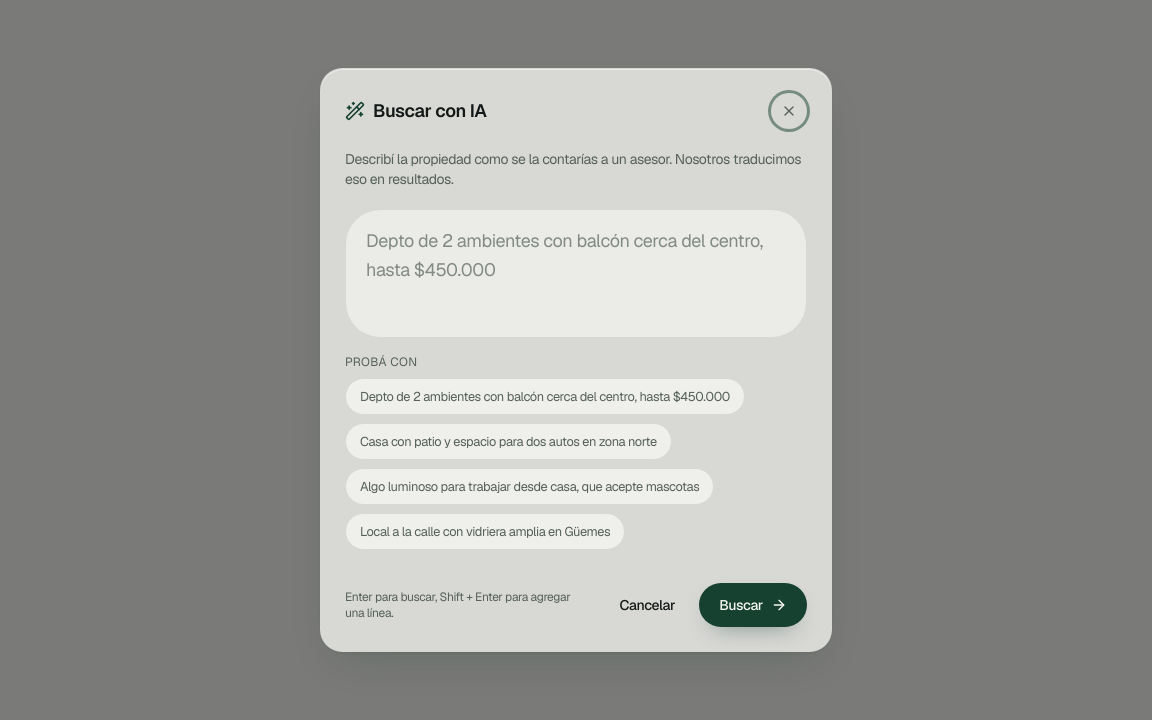
Test: AiSearchDialog › renders example chips and fills the textarea on click
Expected: the text "Casa con patio y espacio para dos autos en zona norte" is shown, [360,432,657,451]
What coordinates should you click on to do the following:
click the button "Casa con patio y espacio para dos autos en zona norte"
I would click on:
 (508, 441)
Its box is [345,423,672,460].
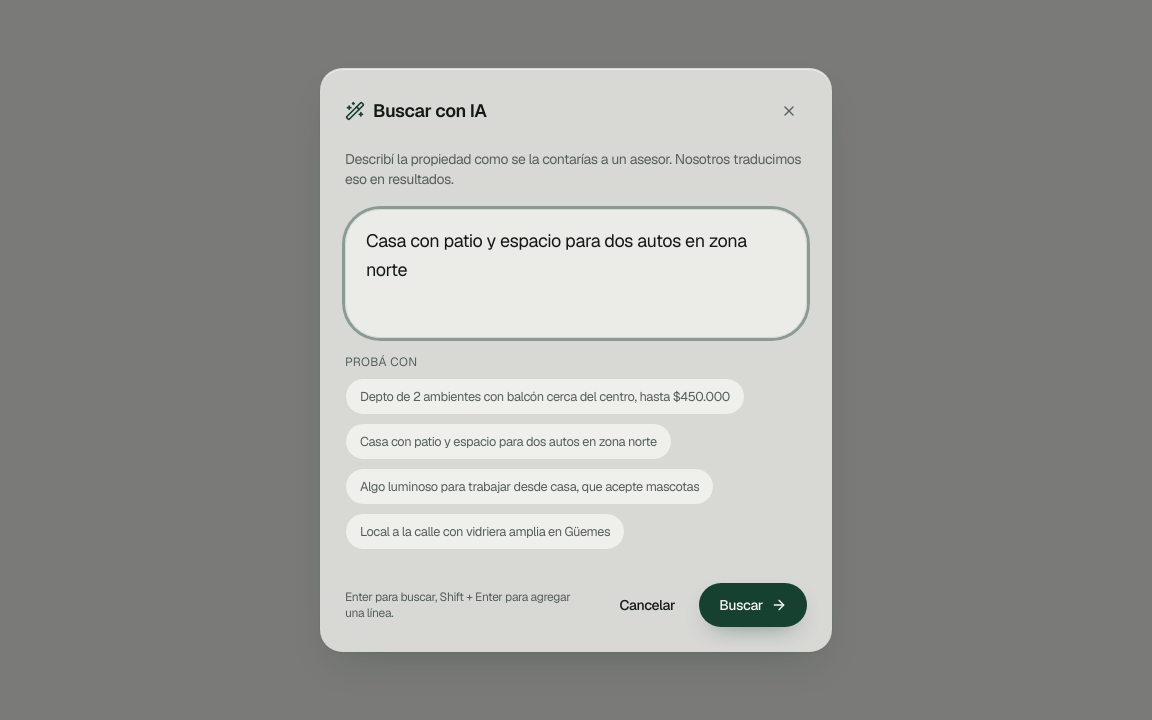
Expected: the text box with placeholder "Depto de 2 ambientes con balcón" holds "Casa con patio y espacio para dos autos en zona norte", [350,214,802,326]
